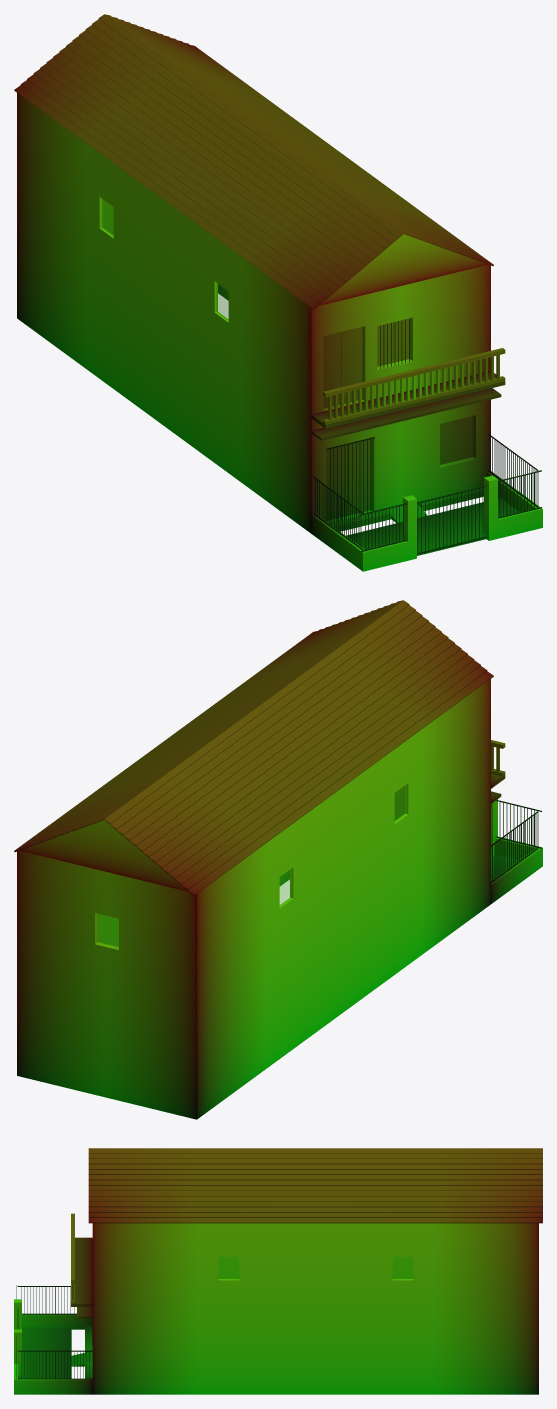
File: biet_thu_6x20.glb
3 views of the same model, one above another, from view 1: azimuth 30°, elevation 25°; view 2: azimuth 150°, elevation 25°; view 3: azimuth 270°, elevation 25° (orthographic). The views are drawn at different scales.
Visible parts, largest first — view 1: biet_thu_6x20; view 2: biet_thu_6x20; view 3: biet_thu_6x20.
Part boxes in pixels (<box>): biet_thu_6x20: <box>14,14,542,571</box>; biet_thu_6x20: <box>14,600,542,1119</box>; biet_thu_6x20: <box>14,1148,542,1394</box>.
Size of what is drawn, in the model's own units: 6.03 by 8.94 by 20.15.
